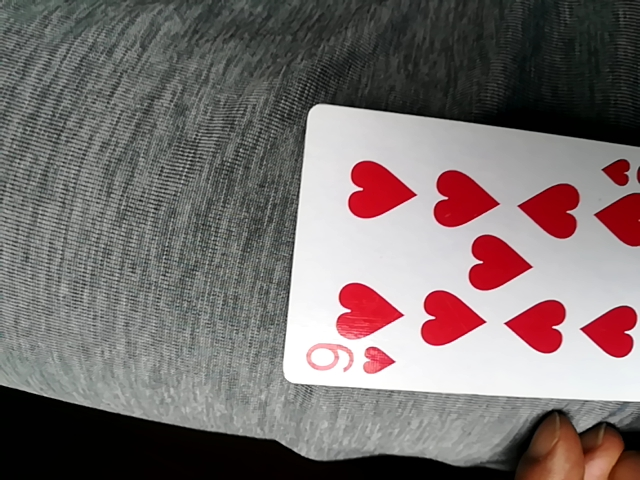hx 9: (283, 103, 640, 404)
